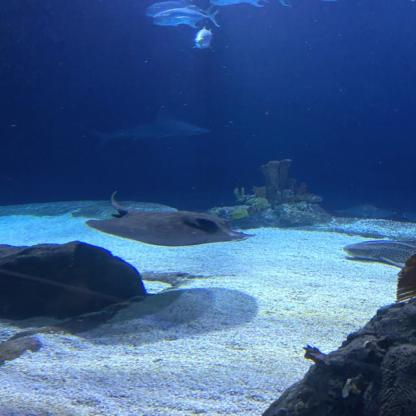fish: (335, 238, 416, 262), (153, 10, 215, 28), (142, 0, 192, 19), (181, 30, 219, 49), (207, 0, 292, 7)
shark: (94, 108, 218, 147)
stingray: (92, 208, 253, 247)
